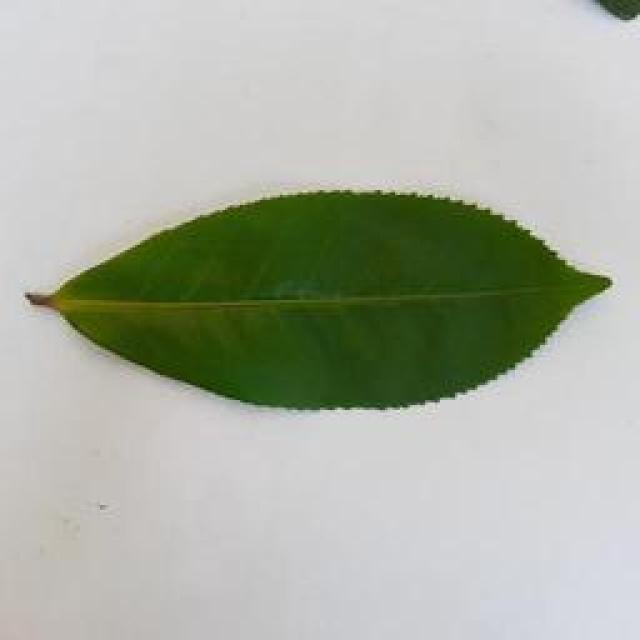Healthy: (20, 178, 638, 426)
